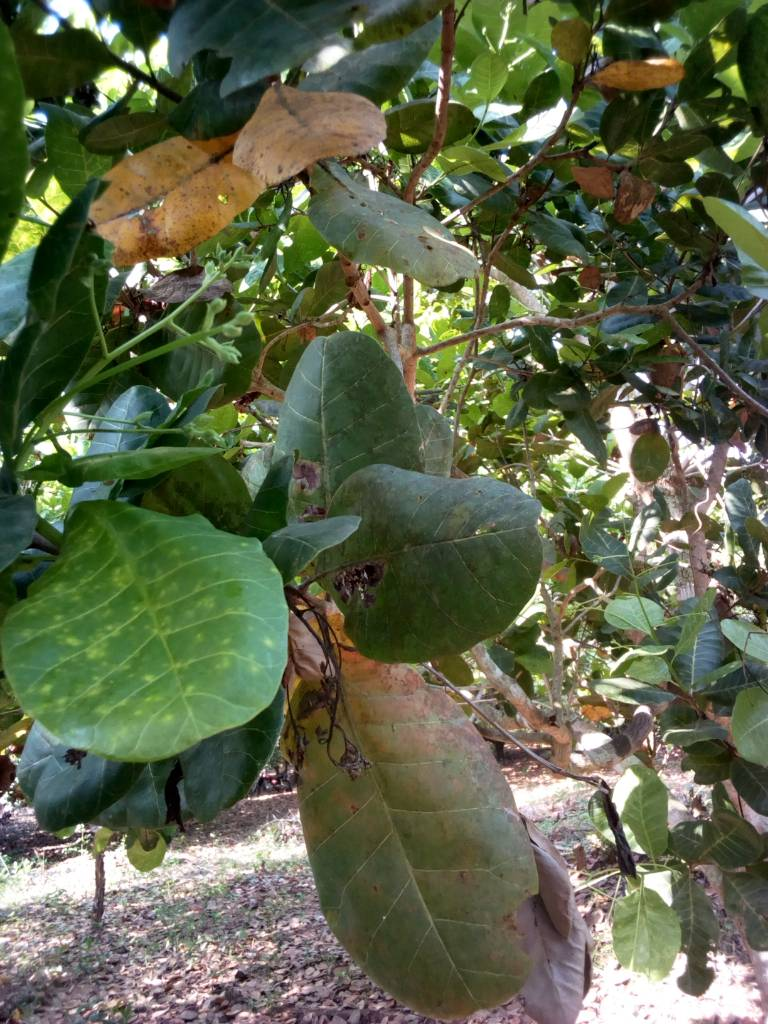Alternariose: (285, 638, 524, 1019), (1, 499, 286, 761), (91, 127, 255, 264)
